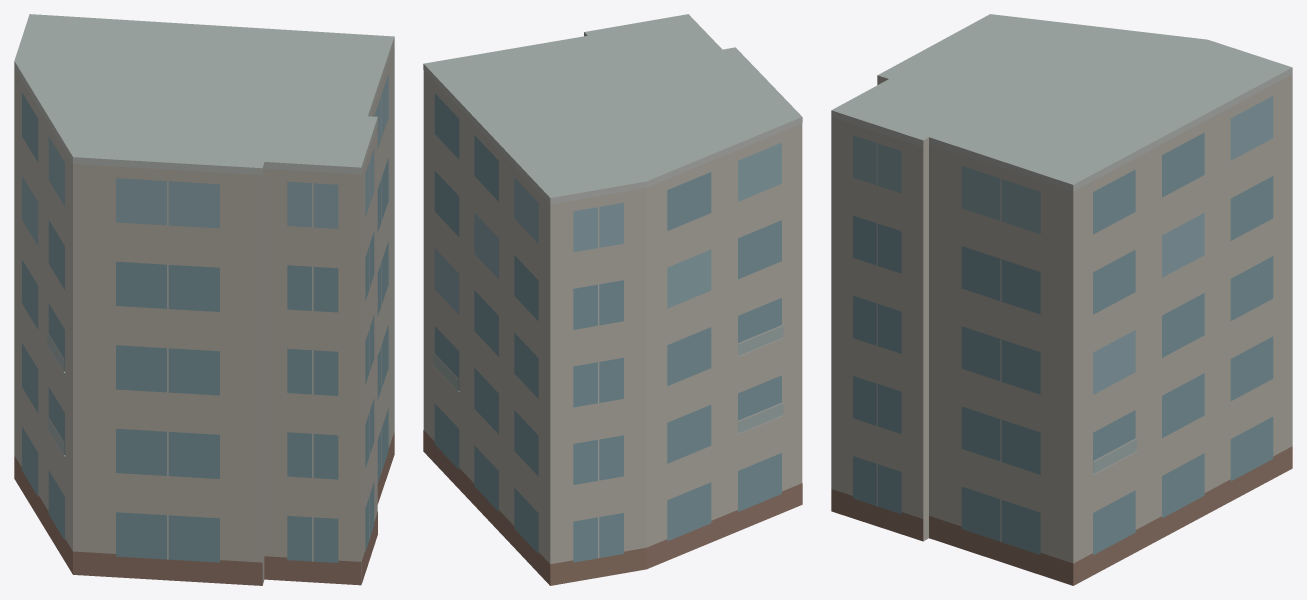
File: survey-upis-33015345.glb
3 views of the same model, side by side, from view 1: azimuth 30°, elevation 25°; view 2: azimuth 150°, elevation 25°; view 3: azimuth 270°, elevation 25° (orthographic). The views are drawn at different scales.
Visible parts, largest first — view 1: survey-upis-33015345.tmp; view 2: survey-upis-33015345.tmp; view 3: survey-upis-33015345.tmp.
Part boxes in pixels (box(x1,y1,x2,y2)): survey-upis-33015345.tmp: box(14, 14, 394, 585); survey-upis-33015345.tmp: box(423, 14, 802, 585); survey-upis-33015345.tmp: box(831, 14, 1292, 585).
Size of the model in its own units: 13.45 by 14.7 by 15.34.
